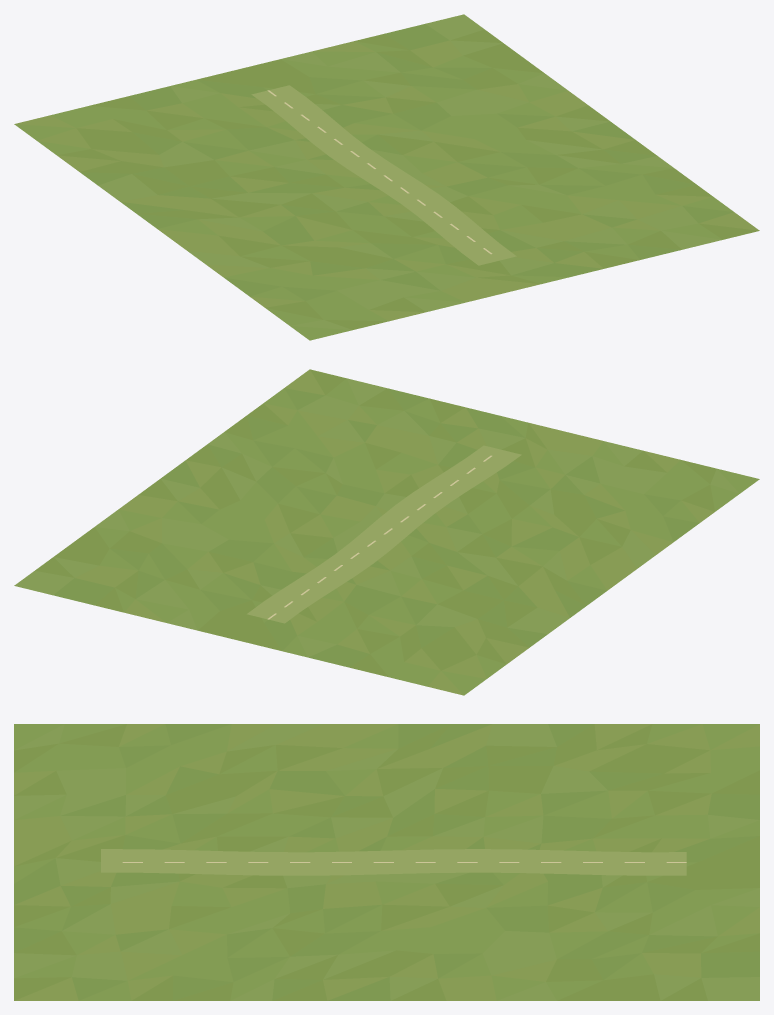
The model's file is landing-field.glb.
The picture shows the model from 3 angles, top to bottom: view 1: azimuth 30°, elevation 25°; view 2: azimuth 150°, elevation 25°; view 3: azimuth 270°, elevation 25°; orthographic projection. The views are drawn at different scales.
Visible parts, largest first — view 1: landing-field; view 2: landing-field; view 3: landing-field.
Boxes of the visible parts, bbox=[...] form: landing-field: bbox=[14, 14, 759, 340]; landing-field: bbox=[14, 369, 759, 695]; landing-field: bbox=[14, 724, 759, 1000].
Bounding box in the file's own units: 94 × 0.016 × 107.
1 material, 1 textured.
